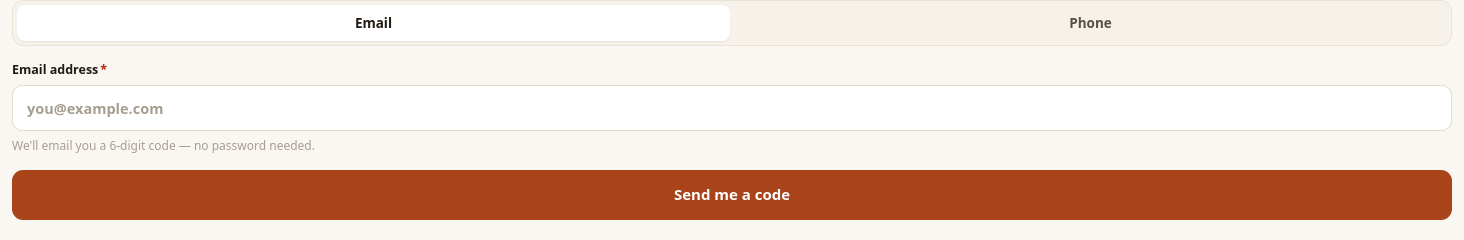
Test case: IdentifierForm › validates on blur once something has been typed
The image size is (1464, 240).
Type "bad@" into the field labelled "Email address*".
click(732, 108); type("bad@")  # box 12,85 -> 1452,131
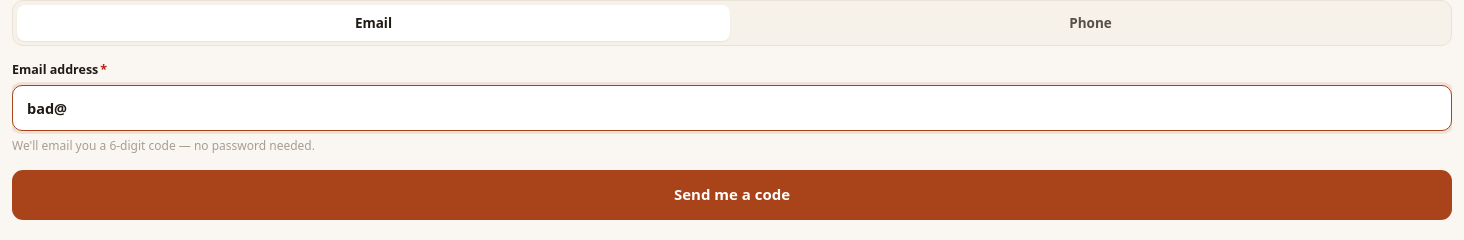
Press Tab
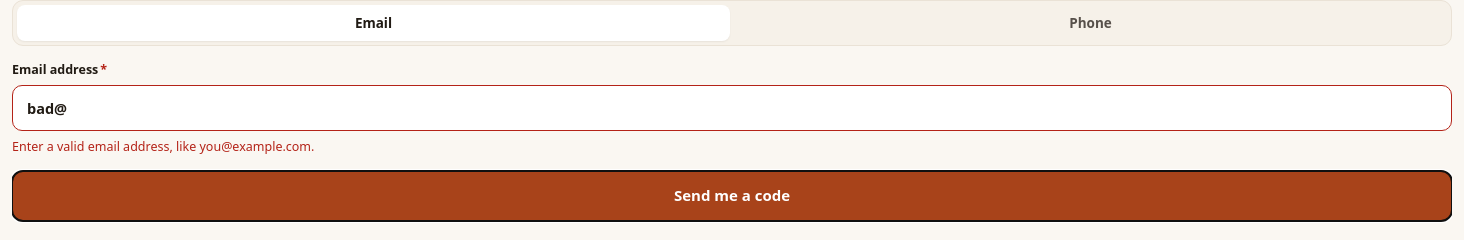
Expected: the message "Enter a valid email address, like you@example.com." is shown, 12,138 -> 314,155
